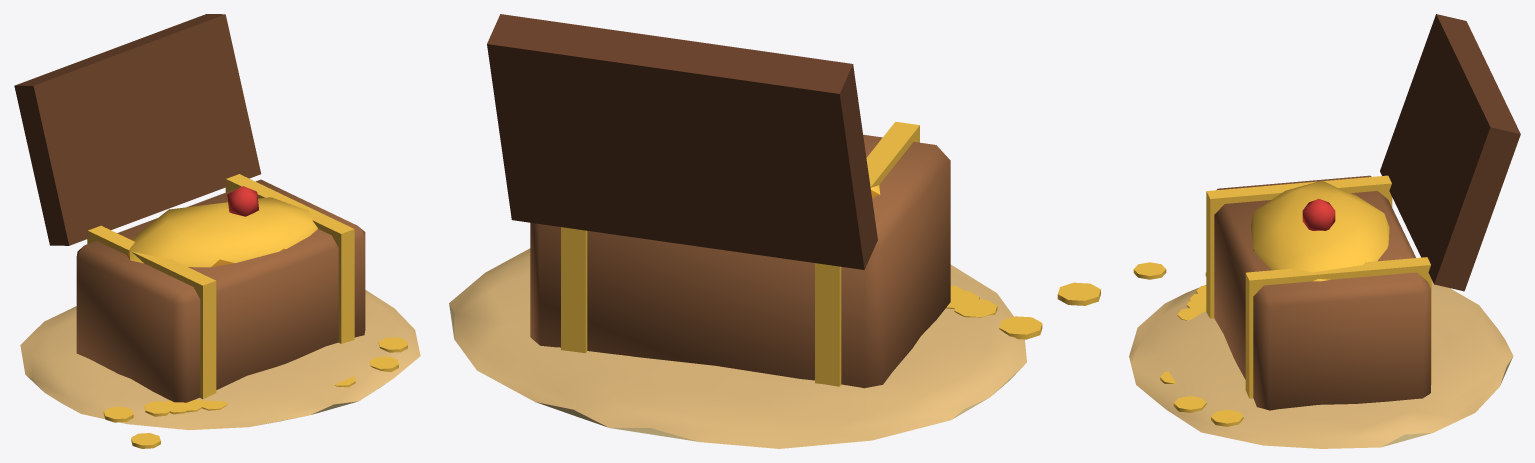
The model's file is TreasureChest.fbx.
3 renders of one model, left to right at view 1: azimuth 30°, elevation 25°; view 2: azimuth 150°, elevation 25°; view 3: azimuth 270°, elevation 25°, orthographic. The views are drawn at different scales.
Parts seen in each view (by area): view 1: TreasureChest; view 2: TreasureChest; view 3: TreasureChest.
Part boxes in pixels (box(x1,y1,x2,y2)): TreasureChest: box(14, 14, 420, 448); TreasureChest: box(449, 14, 1100, 448); TreasureChest: box(1129, 14, 1520, 448).
Bounding box in the file's own units: 1.57 × 1.12 × 1.43.
Materials: 1 (1 with a texture image).
